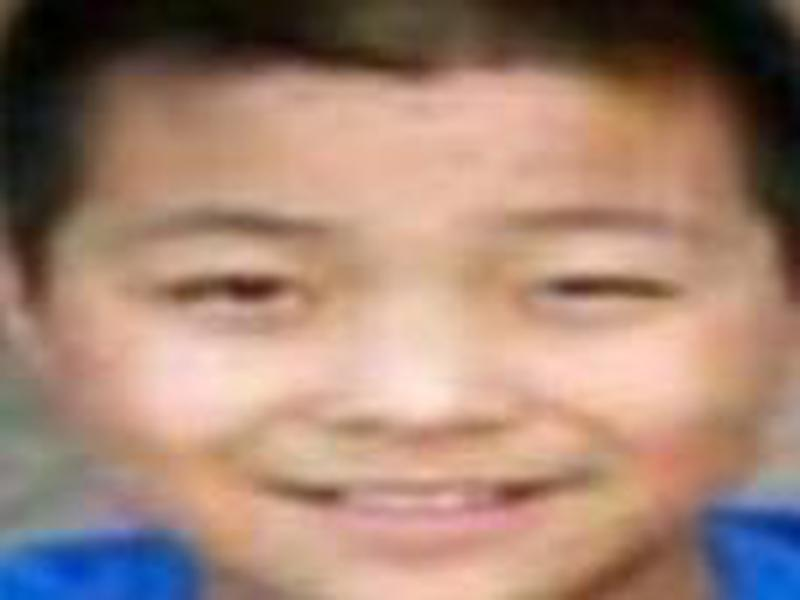without_mask: (49, 63, 772, 585)
